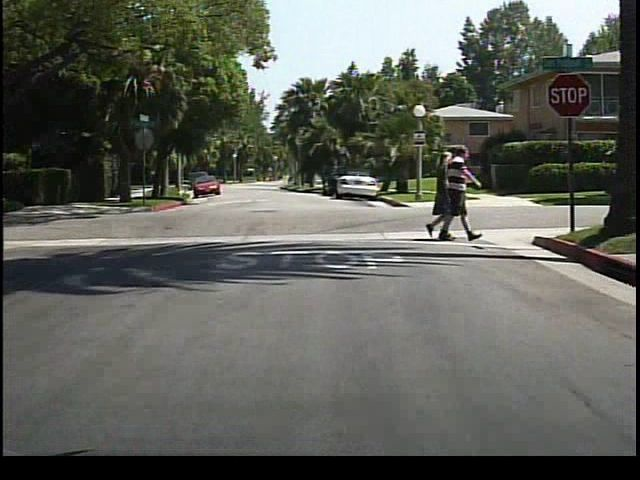person: (446, 144, 481, 243), (424, 151, 454, 240)
